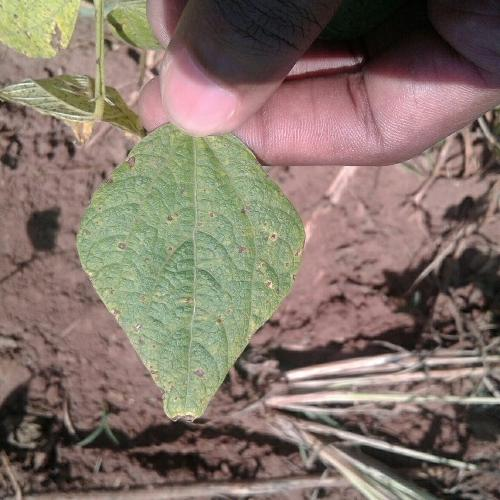hawar: (83, 162, 271, 364)
